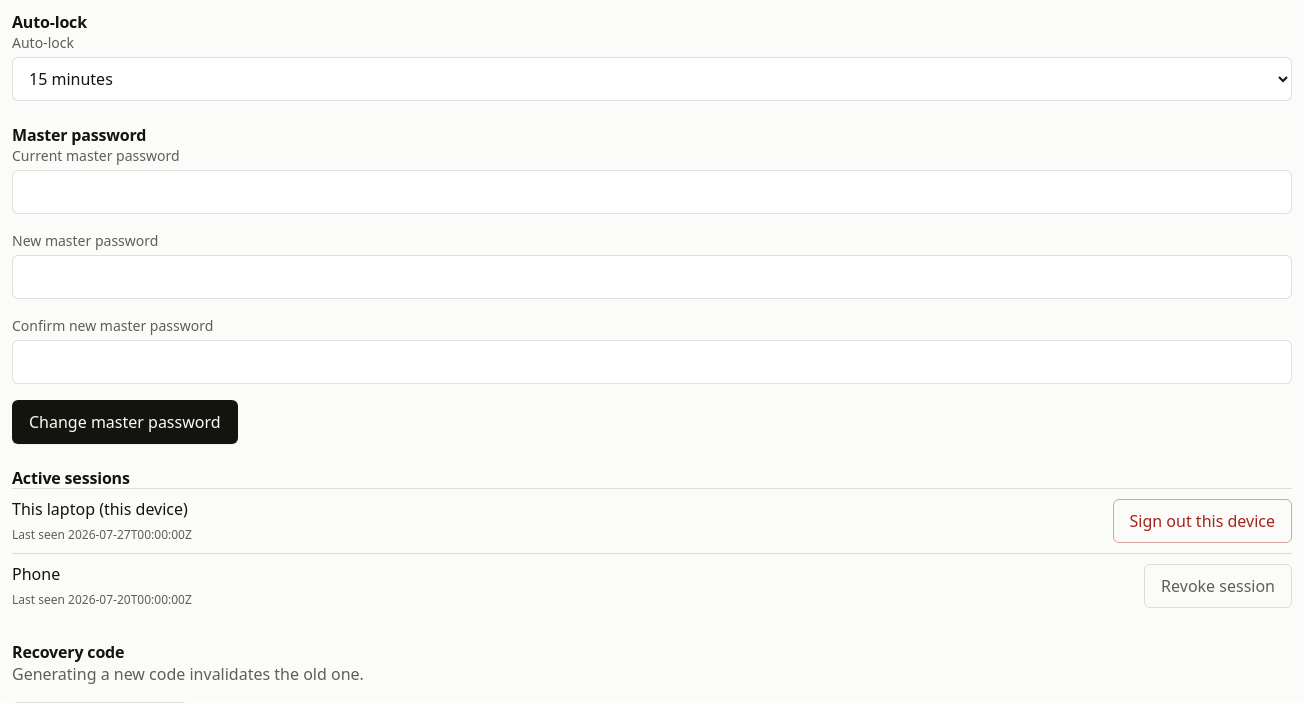
Test case: SettingsScreen master password › tells the user their other devices were signed out after a successful change
Type "old-password" into the password field labelled "Current master password".
click(652, 192); type("old-password")  # box [12, 170, 1292, 214]
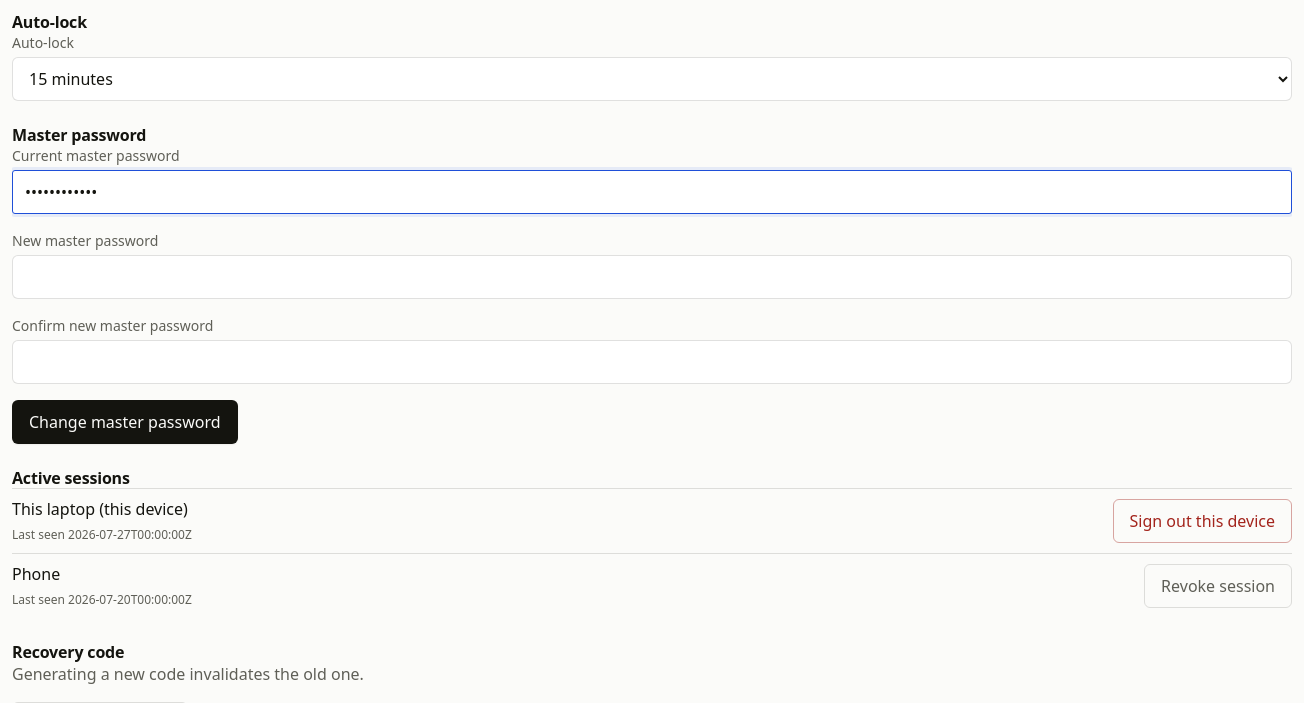
Type "new-password" into the password field labelled "New master password".
click(652, 277); type("new-password")  # box [12, 255, 1292, 299]
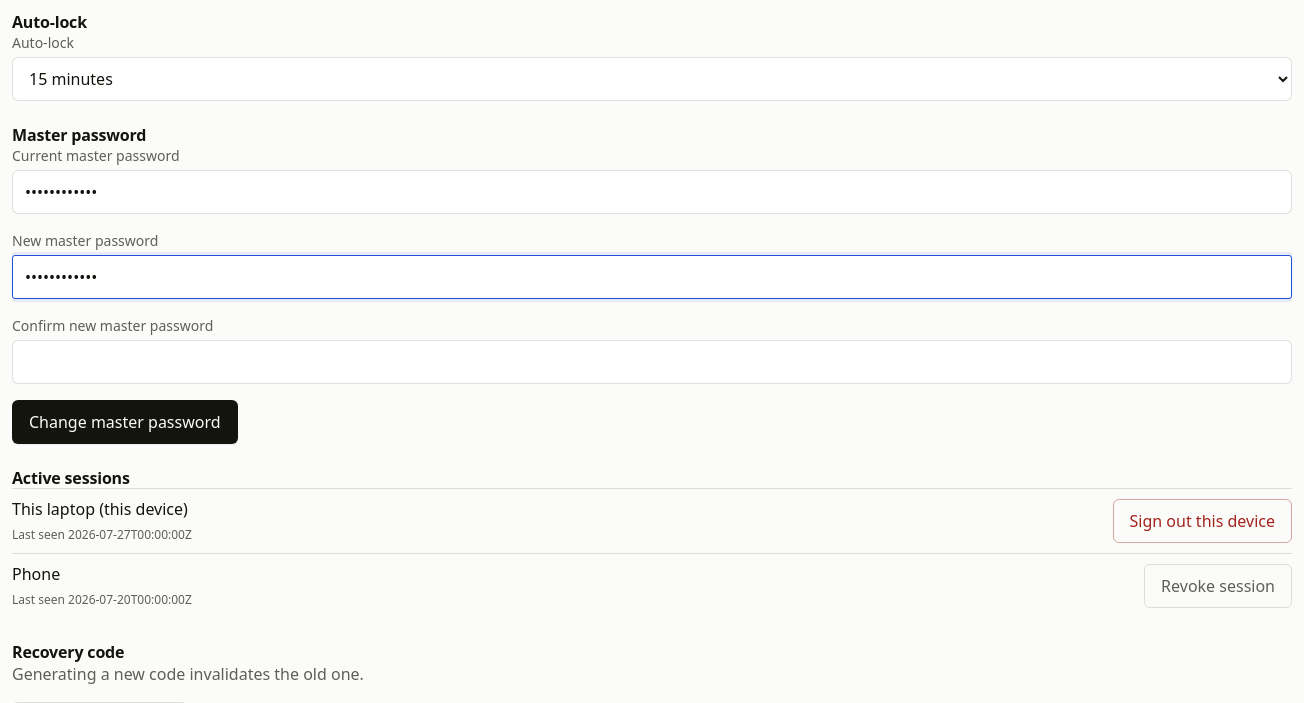
Type "new-password" into the password field labelled "Confirm new master password".
click(652, 362); type("new-password")  # box [12, 340, 1292, 384]
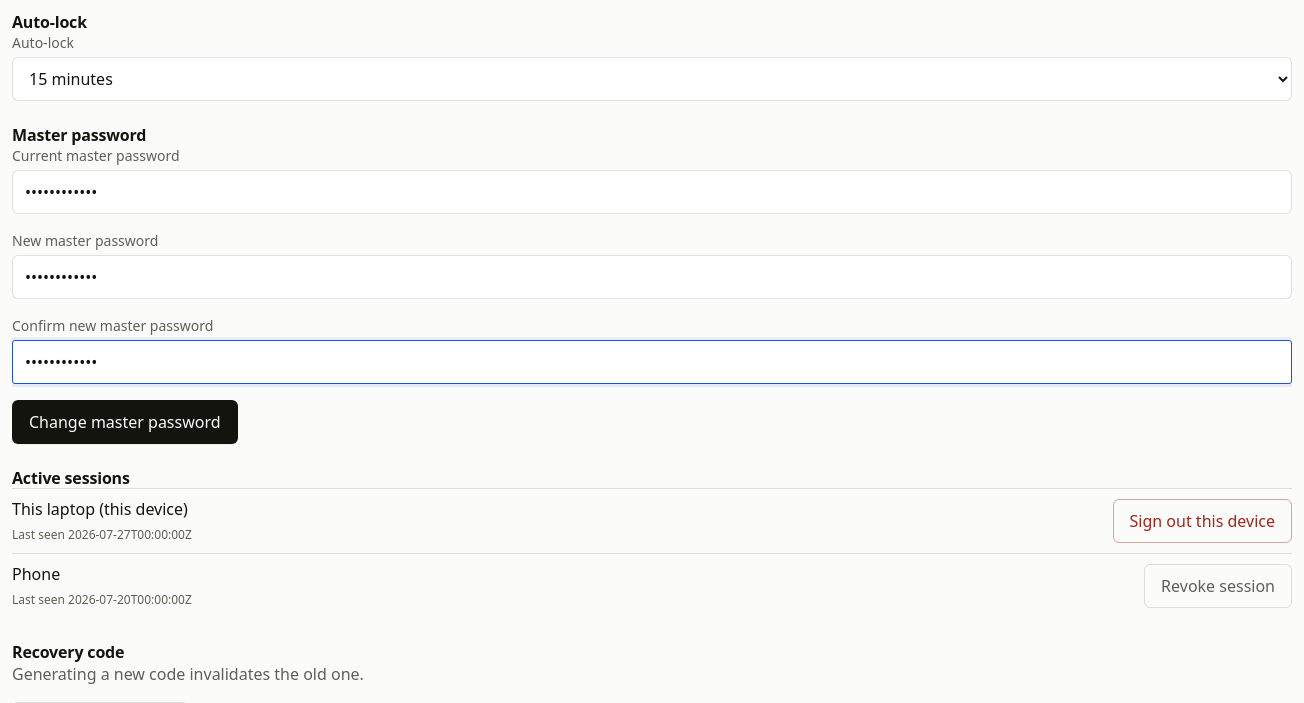
Click the button "Change master password".
click(125, 422)  # box [12, 400, 238, 444]
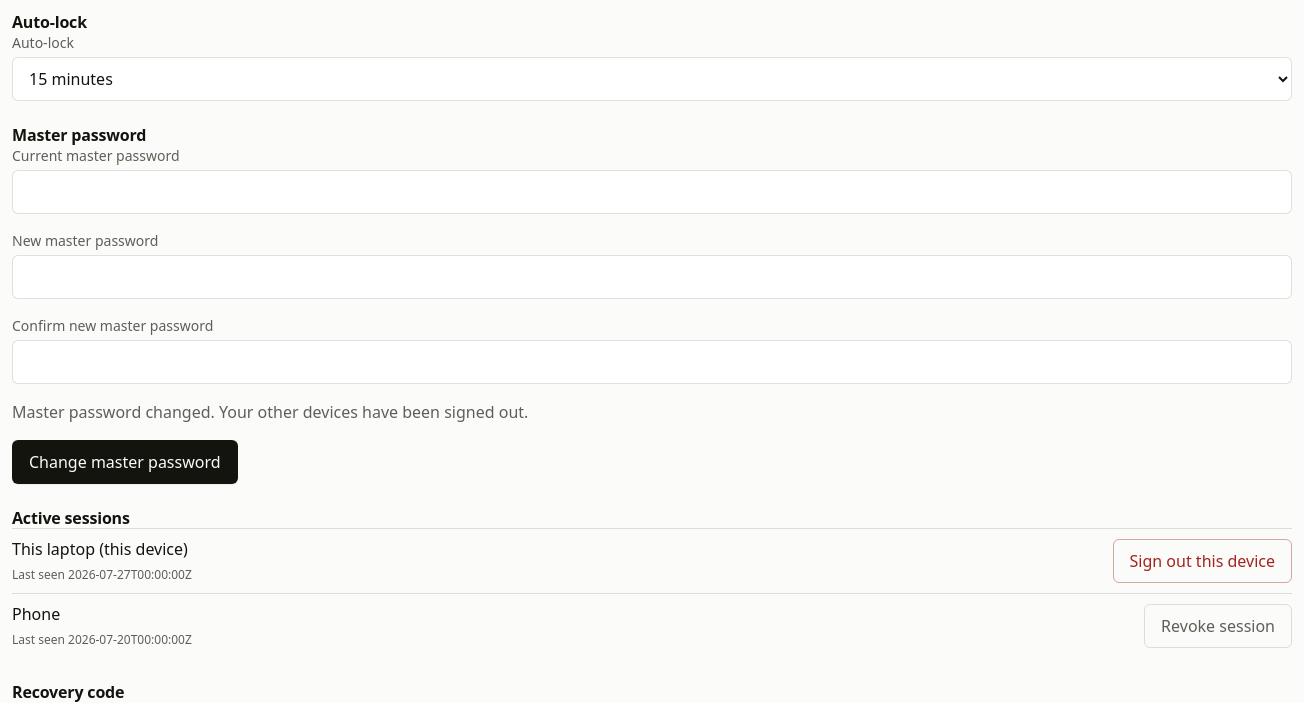
Expected: the text "other devices have been signed out" is shown, [12, 401, 528, 423]
